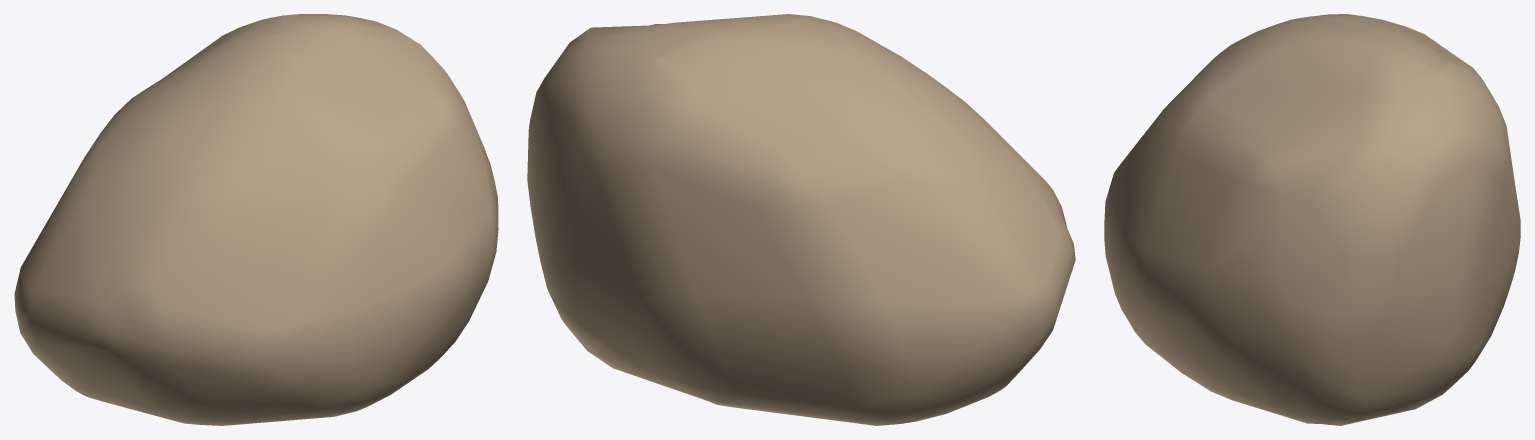
File: Boulder_01_Broad_MaxPoligon.fbx
3 renders of one model, left to right at view 1: azimuth 30°, elevation 25°; view 2: azimuth 150°, elevation 25°; view 3: azimuth 270°, elevation 25°, orthographic. The views are drawn at different scales.
Parts seen in each view (by area): view 1: Boulder_01_Broad; view 2: Boulder_01_Broad; view 3: Boulder_01_Broad.
Boxes of the visible parts, left/top/right/bottom form: Boulder_01_Broad: left=14, top=14, right=498, bottom=425; Boulder_01_Broad: left=527, top=14, right=1075, bottom=425; Boulder_01_Broad: left=1104, top=14, right=1520, bottom=425.
Size of the model in its own units: 2.48 by 1.54 by 1.84.
